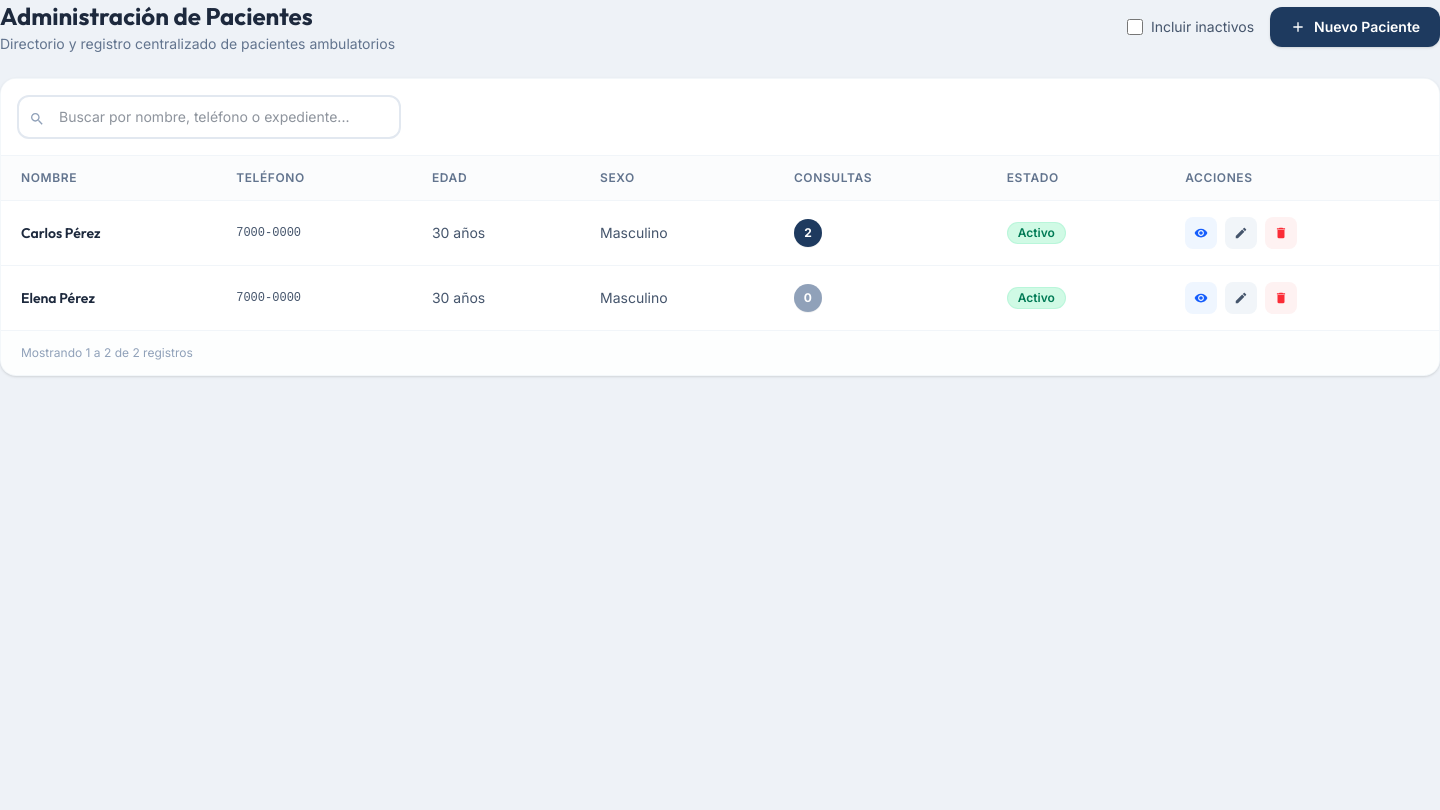
Test: pacientes · confirmación antes de dar de baja › al confirmar sí se aplica la baja y la fila sale del listado
Check: the link "Carlos Pérez" is shown, box top-left (21, 224), bottom-right (100, 242)
Click the 1st button titled "Desactivar paciente": (1281, 233) top-left (1265, 217), bottom-right (1297, 249)
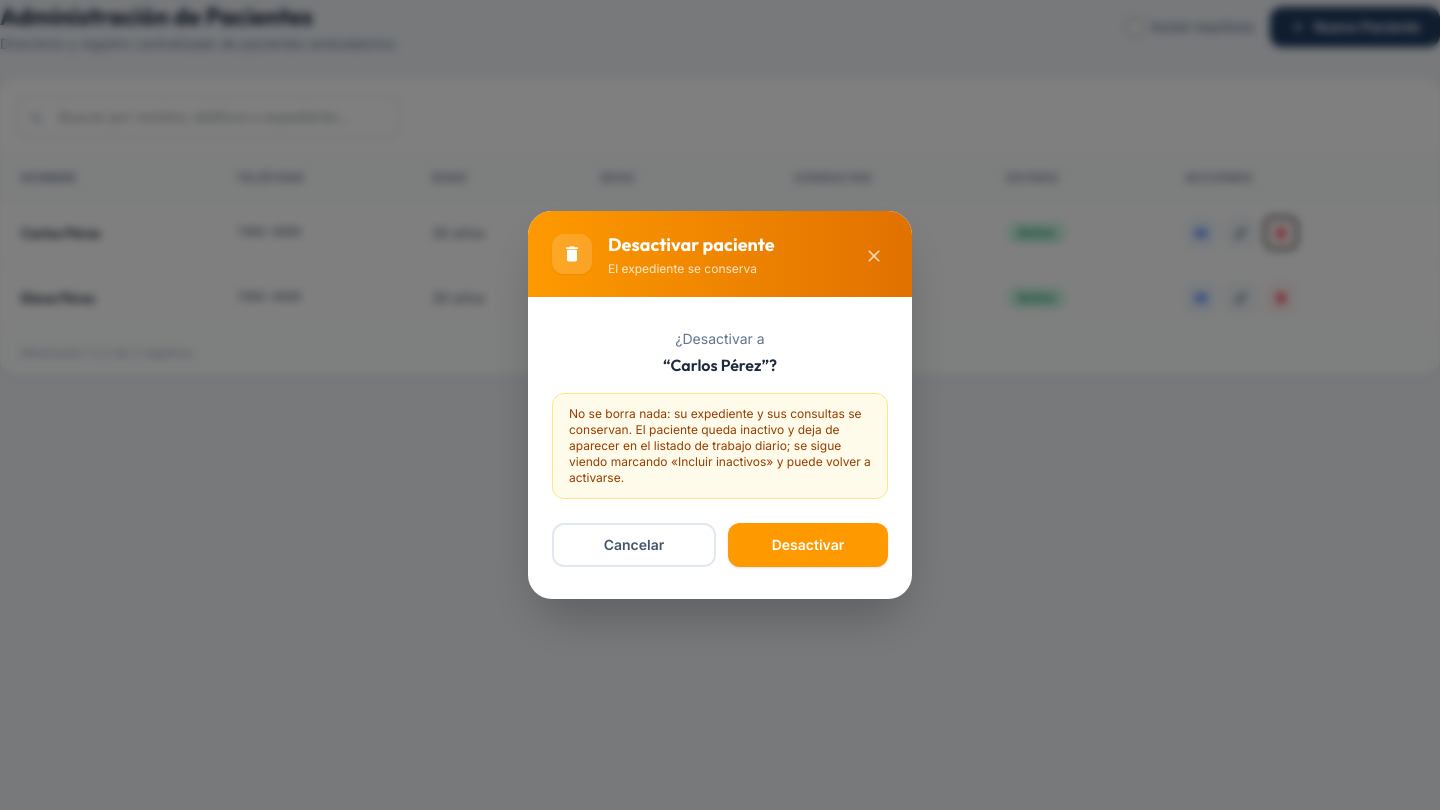
Click the button "Desactivar": (808, 545) top-left (728, 523), bottom-right (888, 567)
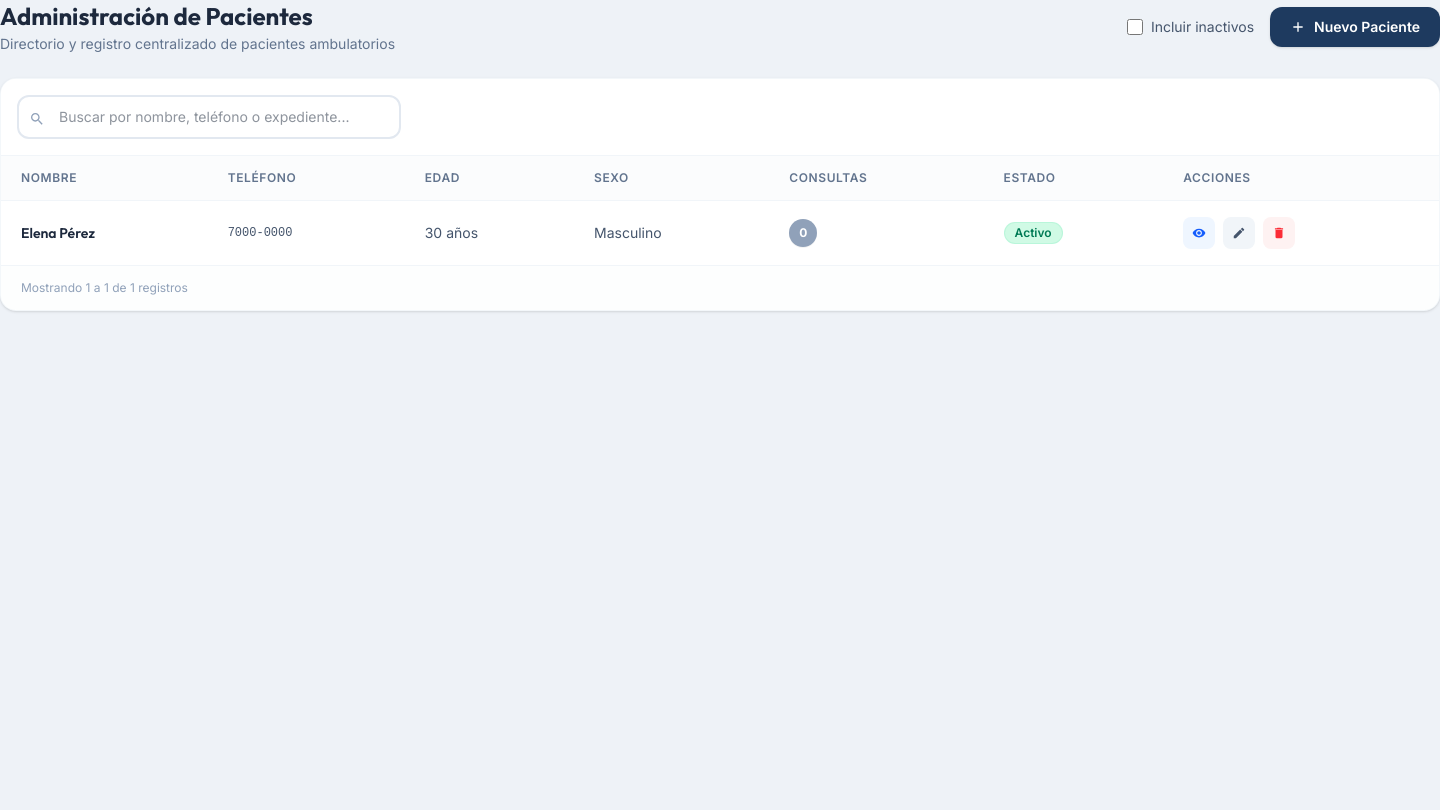
Check: the link "Elena Pérez" is shown, box top-left (21, 224), bottom-right (95, 242)
Check: the link "Carlos" is gone
